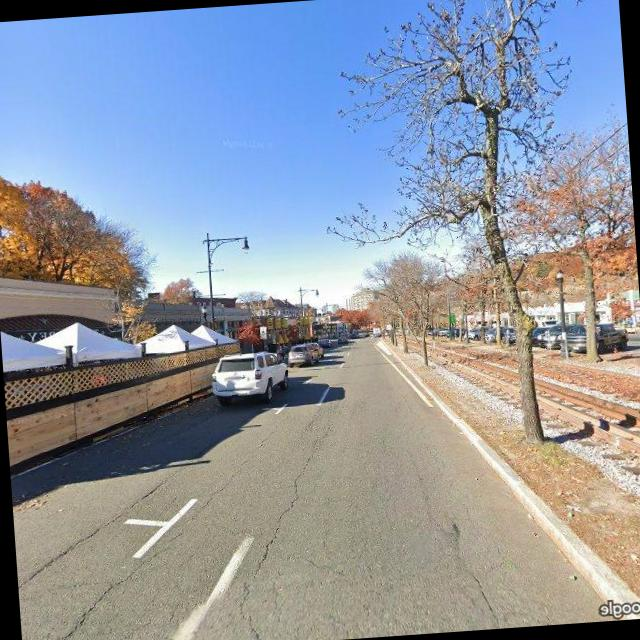pothole: (41, 436, 284, 640), (223, 434, 339, 638), (20, 458, 197, 578)
